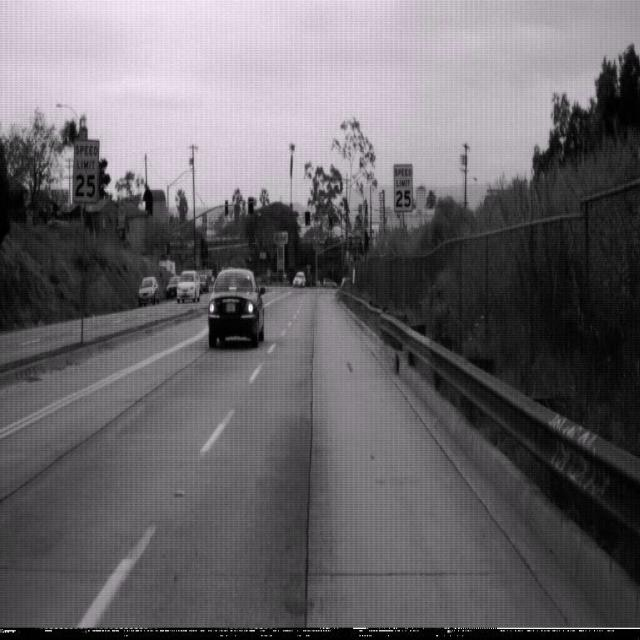speedLimit25: (71, 138, 100, 204), (392, 161, 414, 212)
